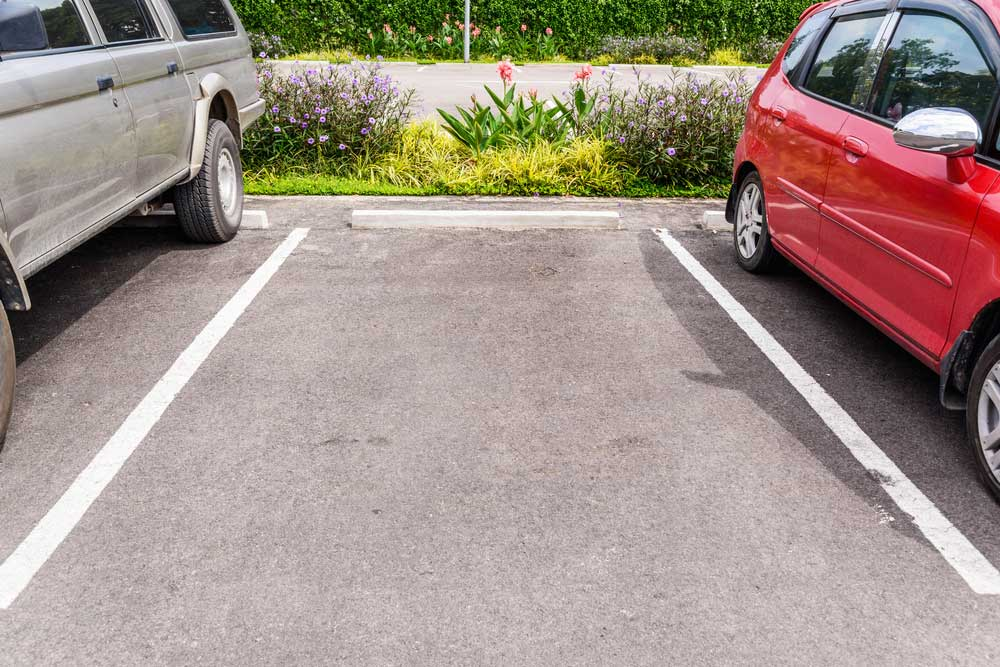empyt_space: (1, 196, 1000, 620)
